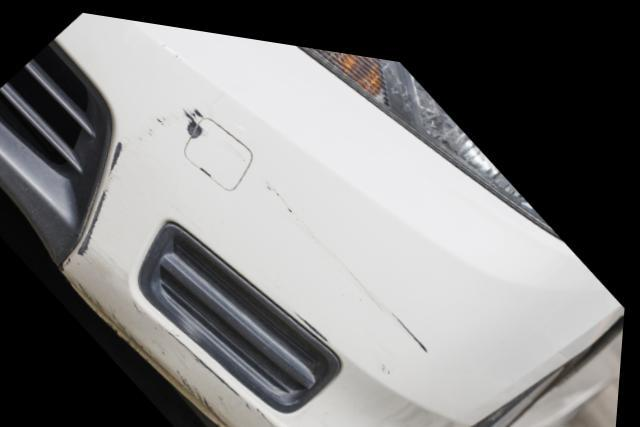scratch: (74, 270, 299, 427), (259, 169, 438, 343), (82, 98, 202, 246), (295, 299, 335, 332)
